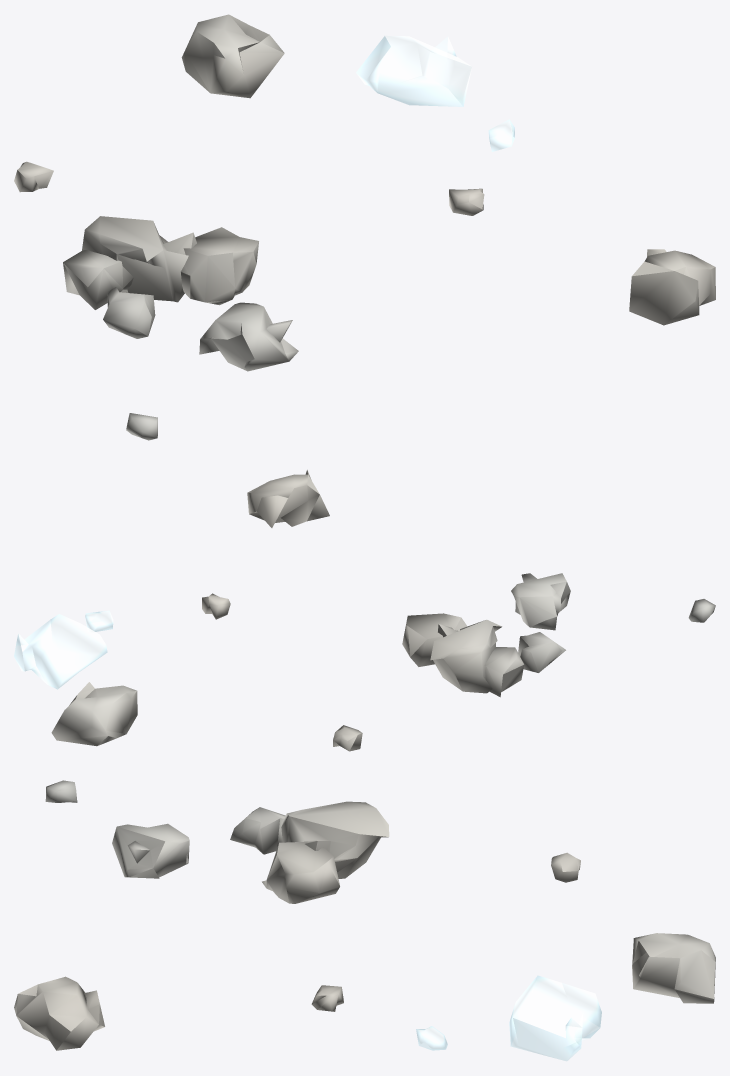
Rendered from frost_gc_crumbs_b_lod1.glb.
The picture shows the model from 3 angles, top to bottom: view 1: azimuth 30°, elevation 25°; view 2: azimuth 150°, elevation 25°; view 3: azimuth 270°, elevation 25°; orthographic projection. The views are drawn at different scales.
Visible parts, largest first — view 1: frost_gc_crumbs_b.001; view 2: frost_gc_crumbs_b.001; view 3: frost_gc_crumbs_b.001.
Part boxes in pixels (x1,y1,x2,y2): frost_gc_crumbs_b.001: (14,14,715,440); frost_gc_crumbs_b.001: (14,470,715,751); frost_gc_crumbs_b.001: (14,780,715,1061).
Size of the model in its own units: 3.82 by 0.3778 by 4.27.
